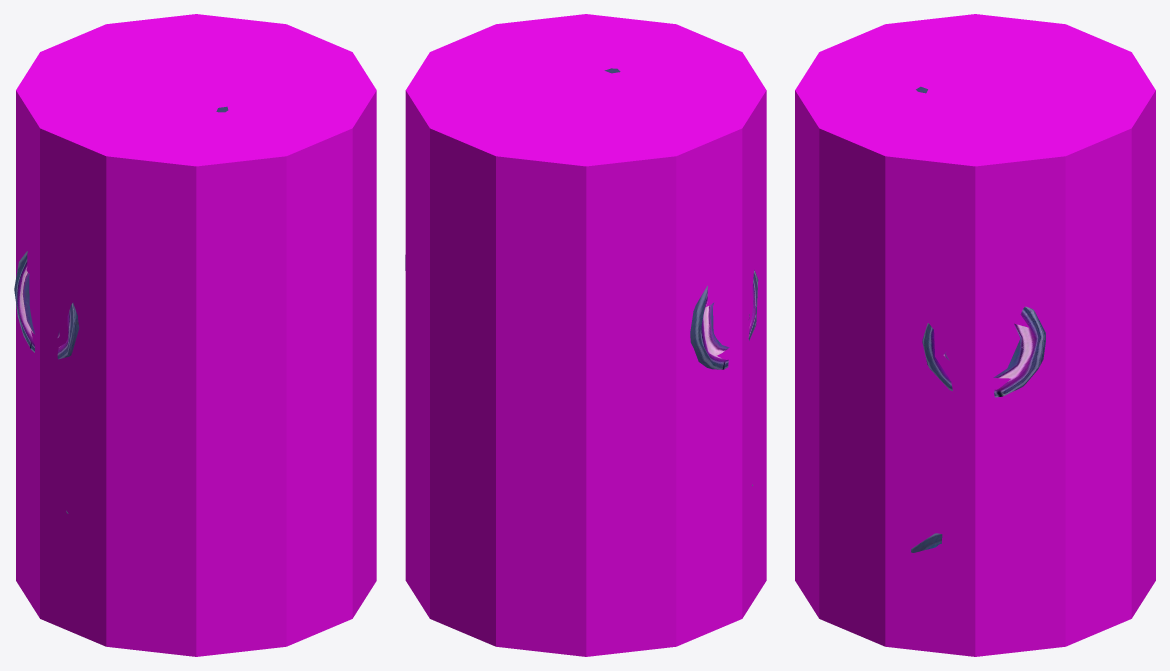
Rendered from prop_barrel.glb.
The picture shows the model from 3 angles, left to right: view 1: azimuth 30°, elevation 25°; view 2: azimuth 150°, elevation 25°; view 3: azimuth 270°, elevation 25°; orthographic projection.
Parts seen in each view (by area): view 1: prop_barrel_col, prop_barrel; view 2: prop_barrel_col, prop_barrel; view 3: prop_barrel_col, prop_barrel.
Boxes of the visible parts, box(x1,y1,x2,y2) form: prop_barrel_col: box(16, 14, 376, 656); prop_barrel: box(14, 106, 228, 513); prop_barrel_col: box(405, 14, 766, 656); prop_barrel: box(405, 68, 758, 485); prop_barrel_col: box(795, 14, 1155, 656); prop_barrel: box(911, 86, 1045, 552).
Bounding box in the file's own units: 0.6 × 0.9015 × 0.6.
Materials: 2 (1 with a texture image).
